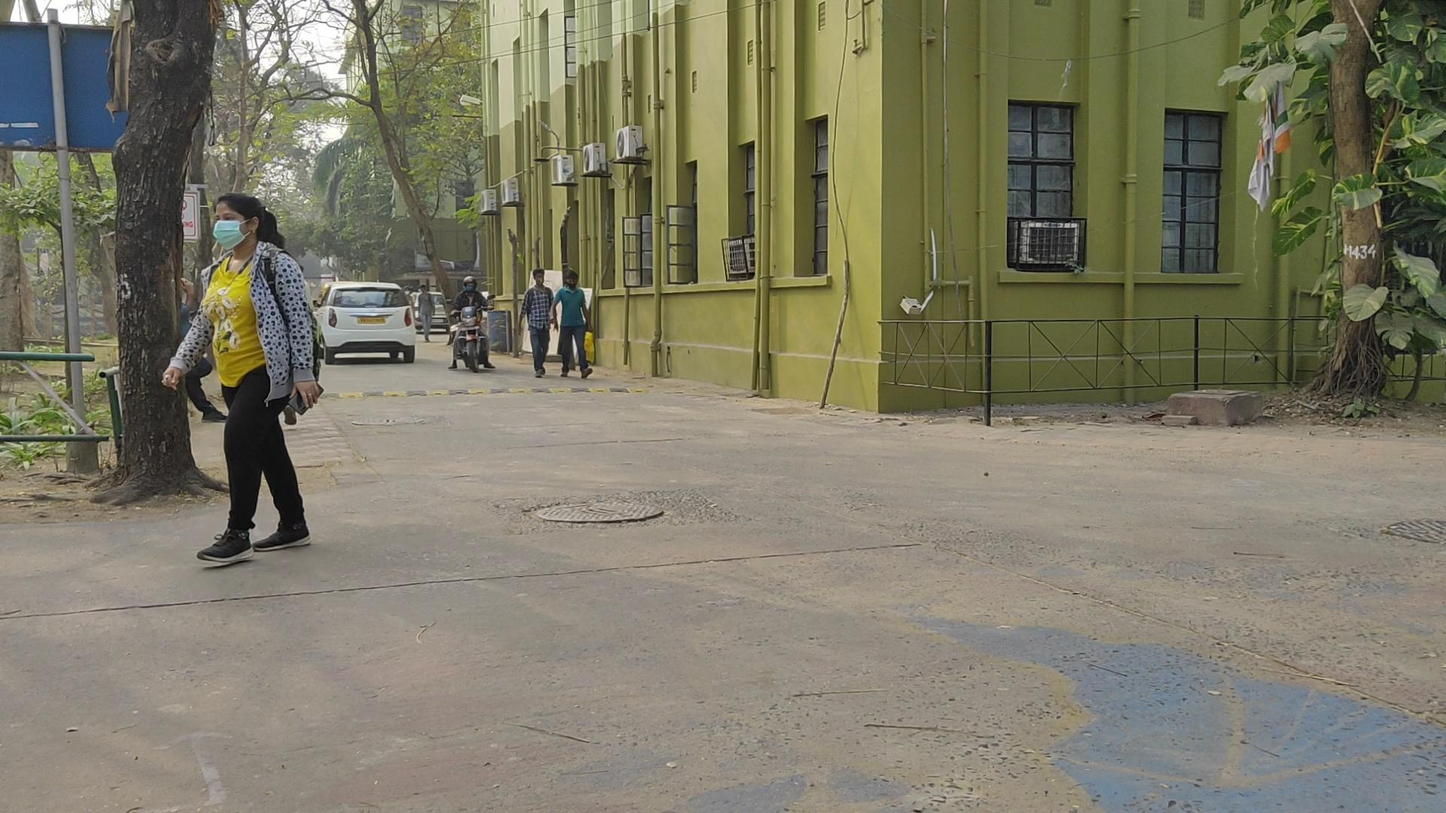bike: (446, 276, 493, 374)
car: (315, 279, 416, 364)
